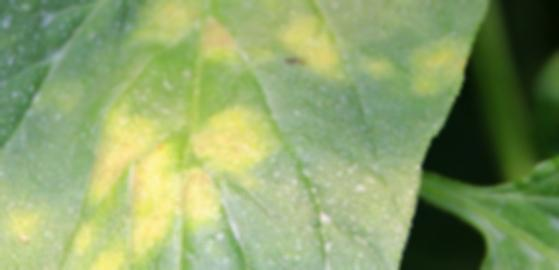Tomato mold leaf: (0, 0, 495, 270)
